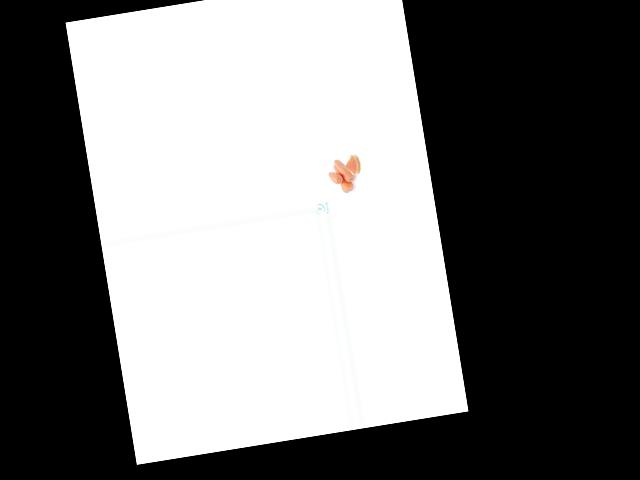carrot: (332, 156, 354, 184)
